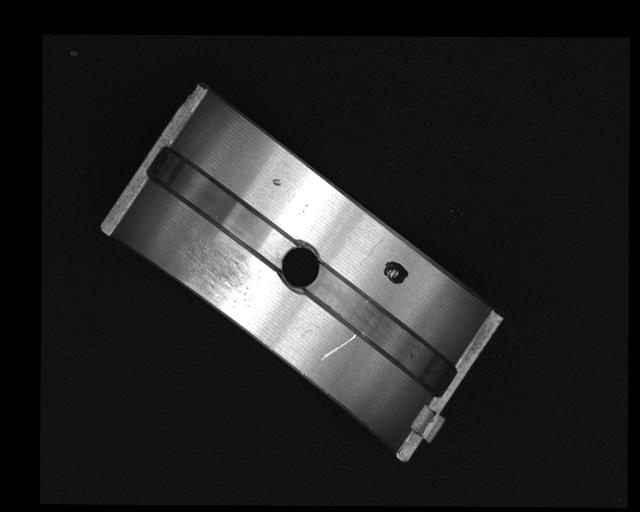blot: (382, 260, 409, 286)
bruise: (272, 177, 282, 187)
gap: (304, 267, 458, 400), (145, 145, 292, 262)
hole: (277, 240, 320, 291)
nick: (319, 332, 356, 361), (360, 234, 383, 270)
scratch: (177, 237, 259, 320)
